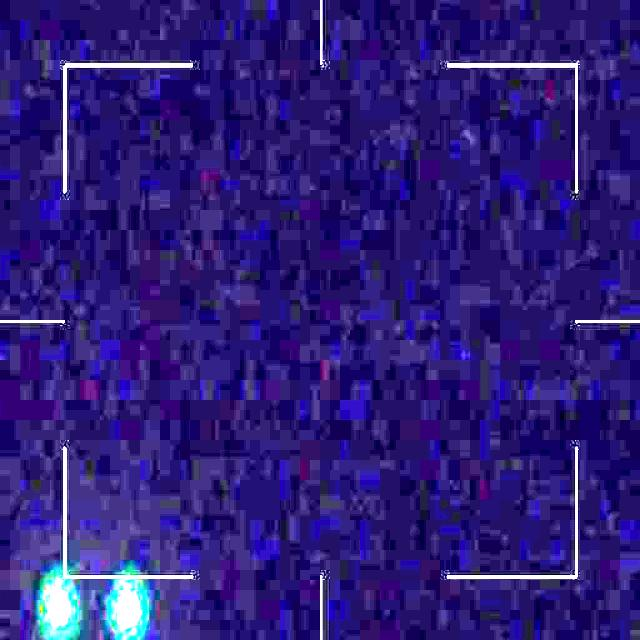bird: (42, 581, 145, 638)
